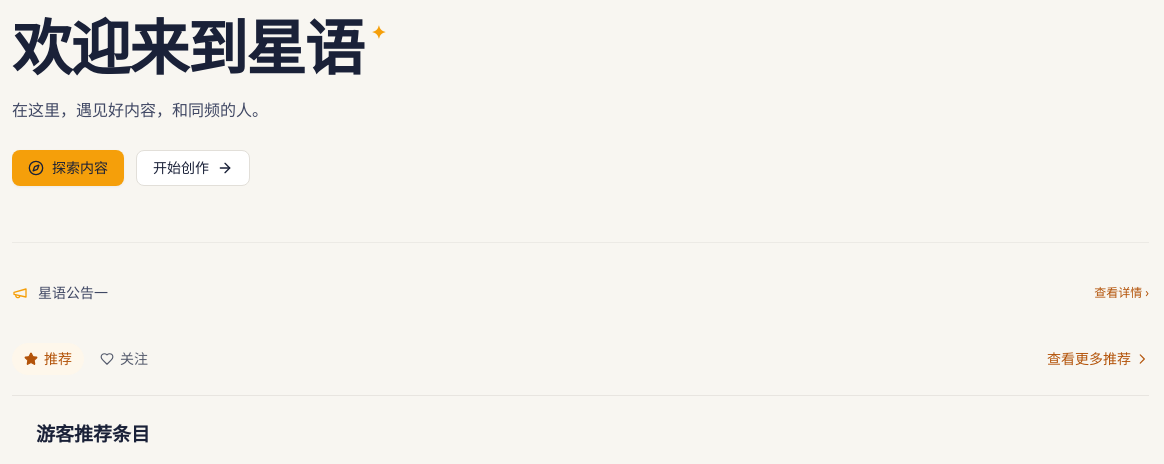
Test case: home (guest) › switches the feed to 关注 without leaving the page
This screenshot has width=1164, height=464.
Expected: the link "游客推荐条目" is shown, [36,421,150,447]
Click the tab "关注": (124, 359) [88,343,160,375]
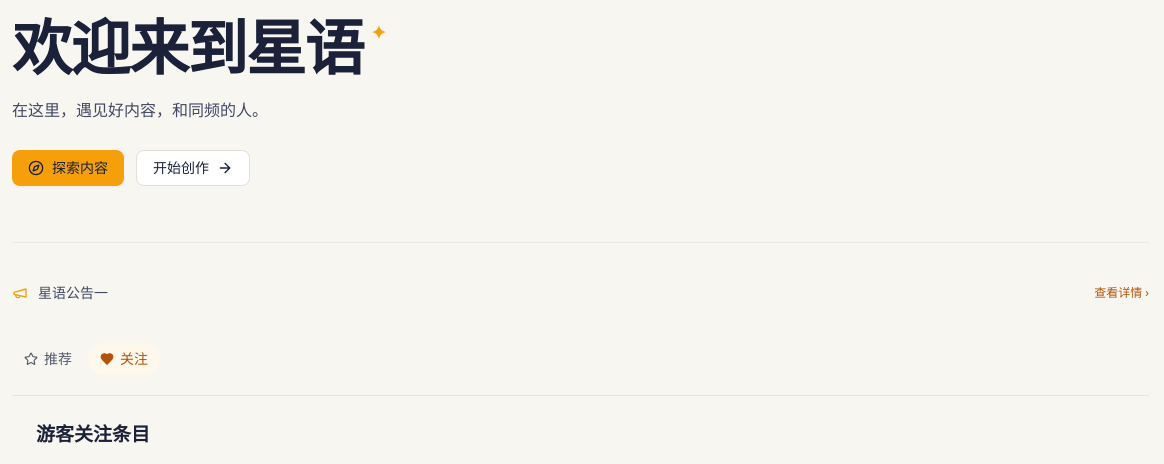
Now the link "游客关注条目" is shown, box [36,421,150,447]
Now the link "游客推荐条目" is gone
